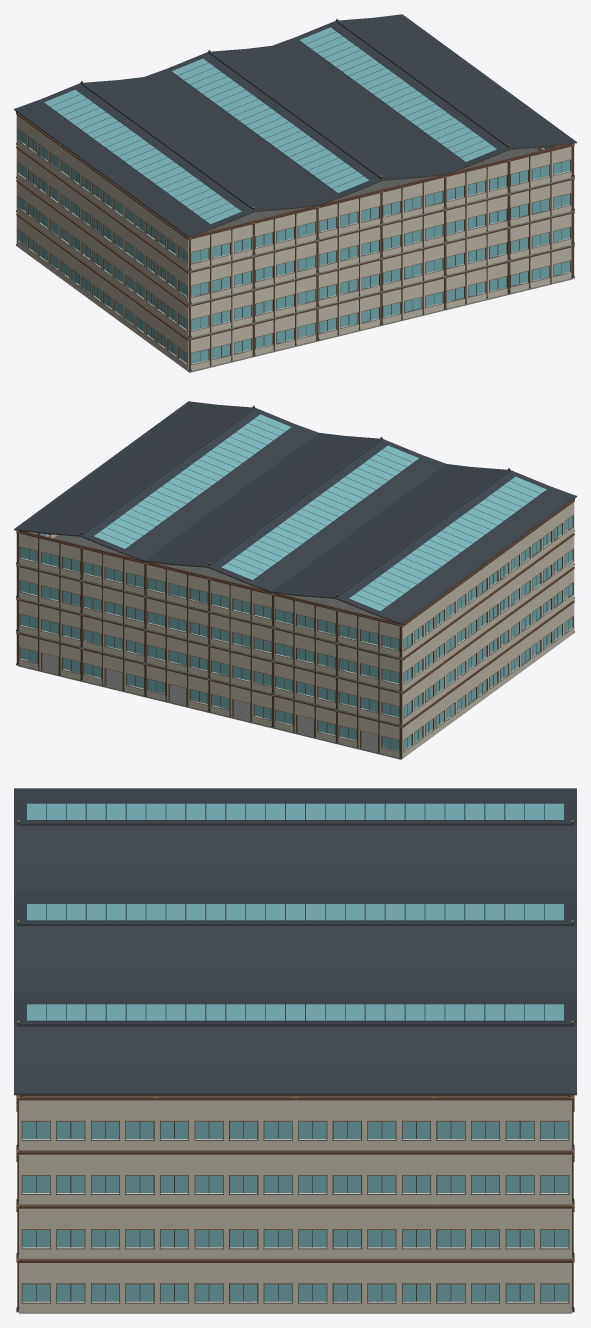
The model's file is visual-far.glb.
3 renders of one model, top to bottom at view 1: azimuth 30°, elevation 25°; view 2: azimuth 150°, elevation 25°; view 3: azimuth 270°, elevation 25°, orthographic. The views are drawn at different scales.
Parts seen in each view (by area): view 1: 参数墙 · 独立窗玻璃 (×40), 连续屋面 · gable (×3), 工业屋面连续采光带 (×3), 石铺面与混凝土楼板 (×3); view 2: 参数墙 · 独立窗玻璃 (×34), 连续屋面 · gable (×3), 工业屋面连续采光带 (×3), 参数墙 · 通行门洞 (×6), 石铺面与混凝土楼板 (×2), 保留真实梯井的楼板; view 3: 连续屋面 · gable (×3), 参数墙 · 独立窗玻璃 (×16), 工业屋面连续采光带 (×3).
Part boxes in pixels (x1,y1,x2,y2): 参数墙 · 独立窗玻璃 (×40): (16, 113, 572, 371); 连续屋面 · gable (×3): (14, 14, 576, 237); 工业屋面连续采光带 (×3): (43, 27, 497, 224); 石铺面与混凝土楼板 (×3): (217, 148, 572, 256); 参数墙 · 独立窗玻璃 (×34): (19, 500, 574, 758); 连续屋面 · gable (×3): (14, 401, 576, 624); 工业屋面连续采光带 (×3): (93, 414, 547, 611); 参数墙 · 通行门洞 (×6): (19, 633, 399, 757); 石铺面与混凝土楼板 (×2): (146, 566, 373, 643); 保留真实梯井的楼板: (18, 535, 118, 580); 连续屋面 · gable (×3): (14, 788, 576, 1096); 参数墙 · 独立窗玻璃 (×16): (19, 1096, 571, 1312); 工业屋面连续采光带 (×3): (26, 803, 564, 1021).
Bounding box in the file's own units: 58 × 21.48 × 45.2.
Materials: 18 (18 with a texture image).
